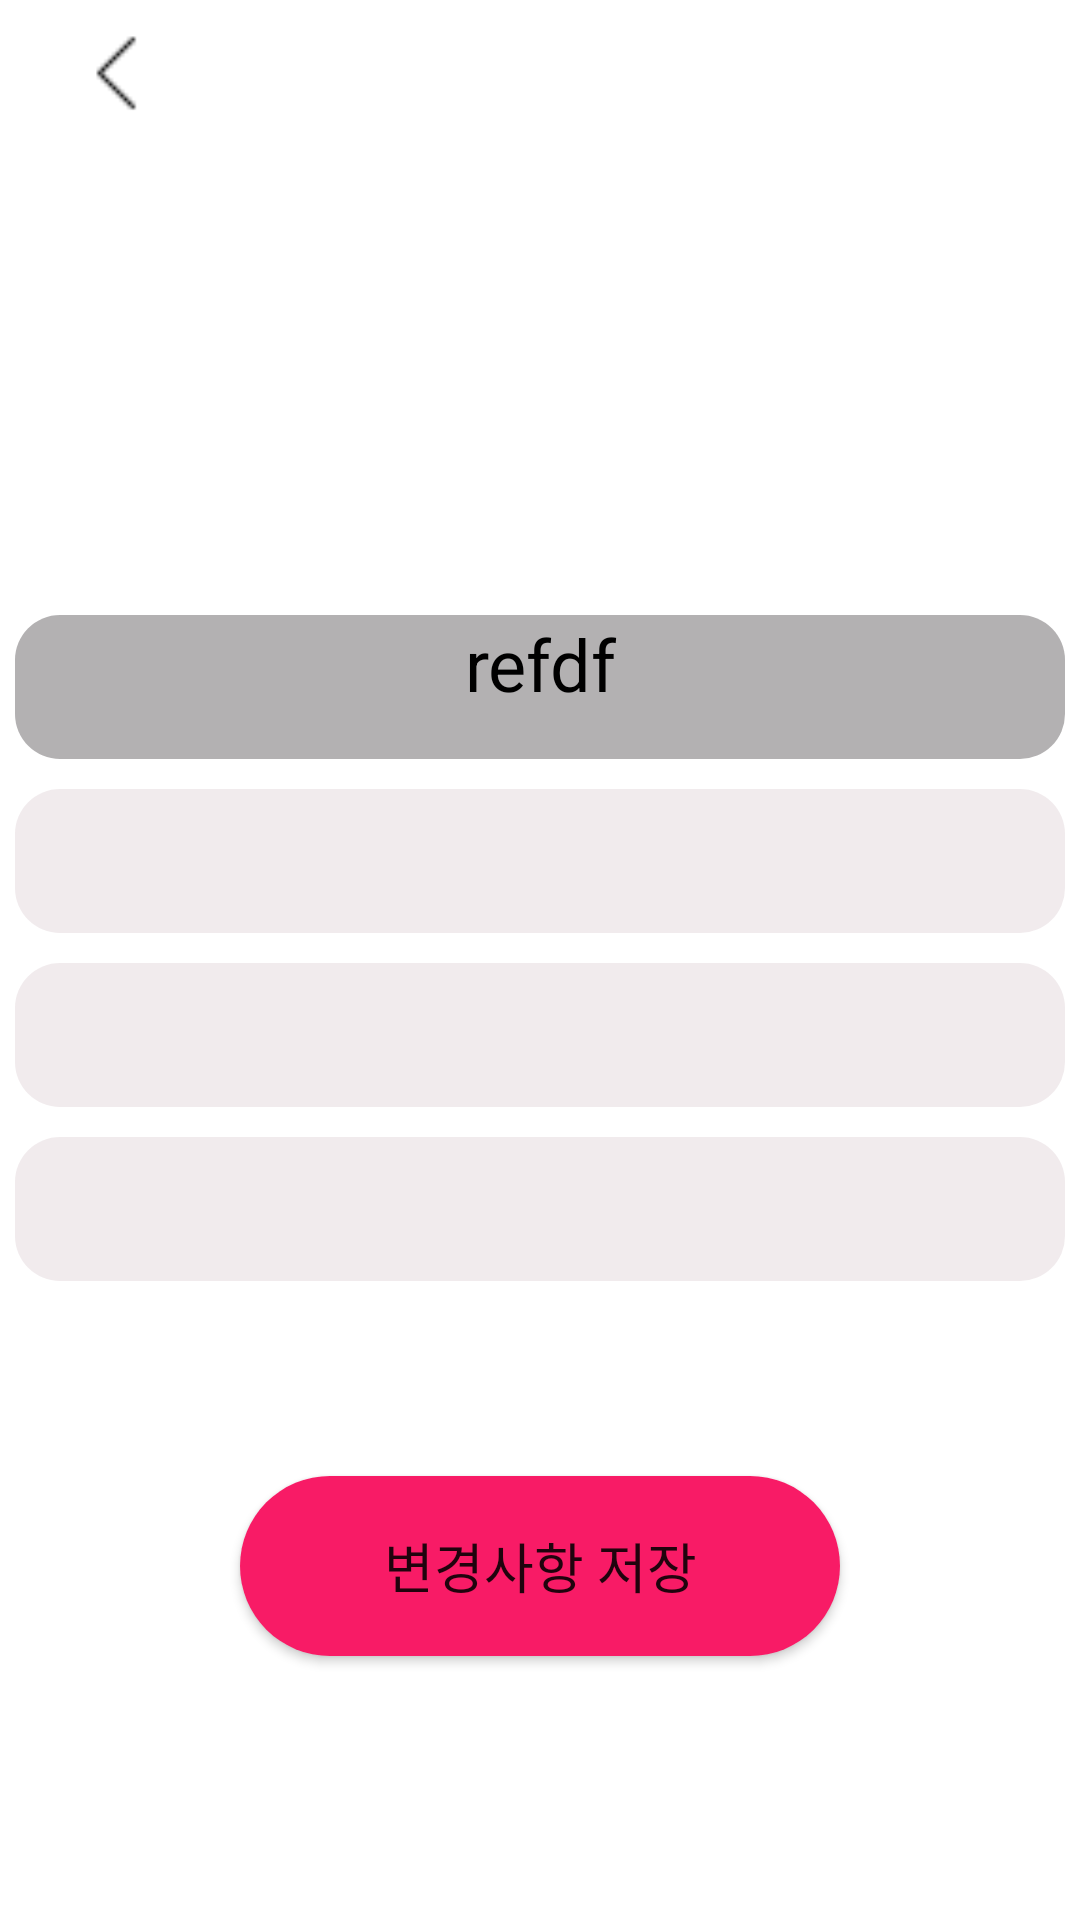

Icon click points for this 1080 × 1920 phone screenshot, format (x=x, y=y):
chevron: (x=116, y=73)
